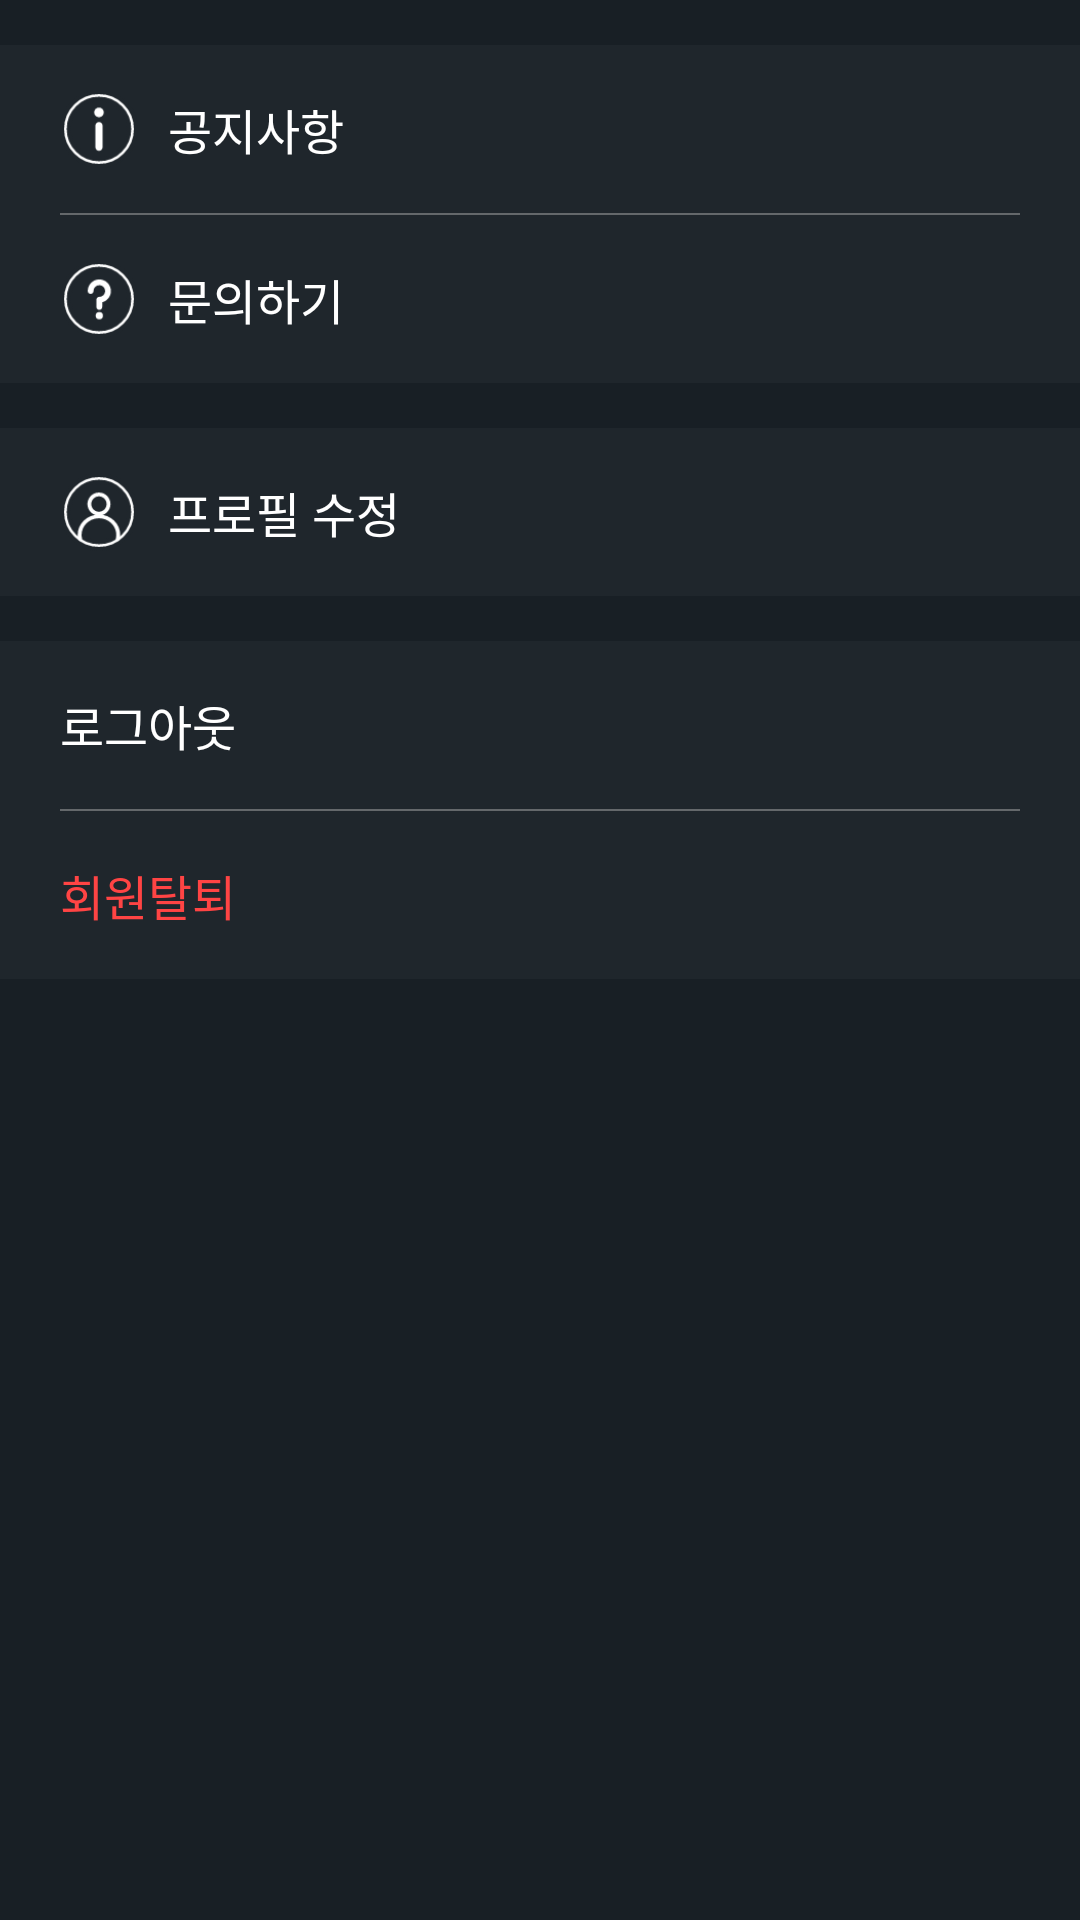

Named icons in this screenshot (1080px x 1920px) and their centers, point (x, y):
info: point (99, 129)
profile: point (99, 512)
question: point (99, 299)
